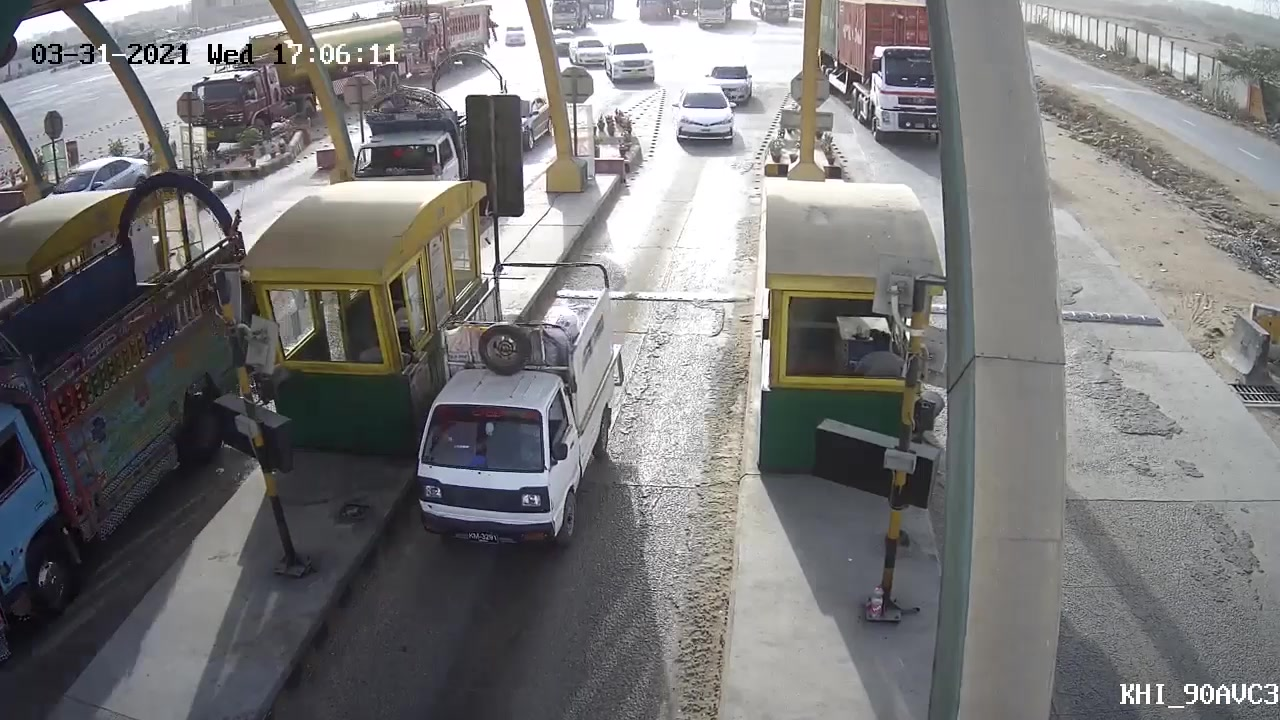F1: (403, 255, 633, 564)
